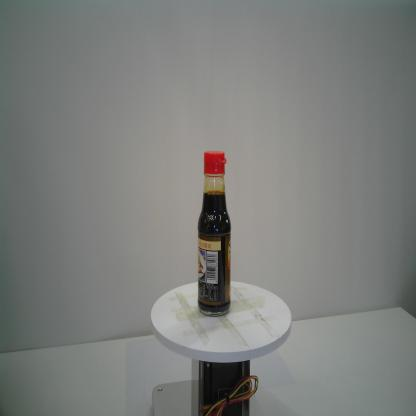Seasoner: (196, 150, 232, 316)
